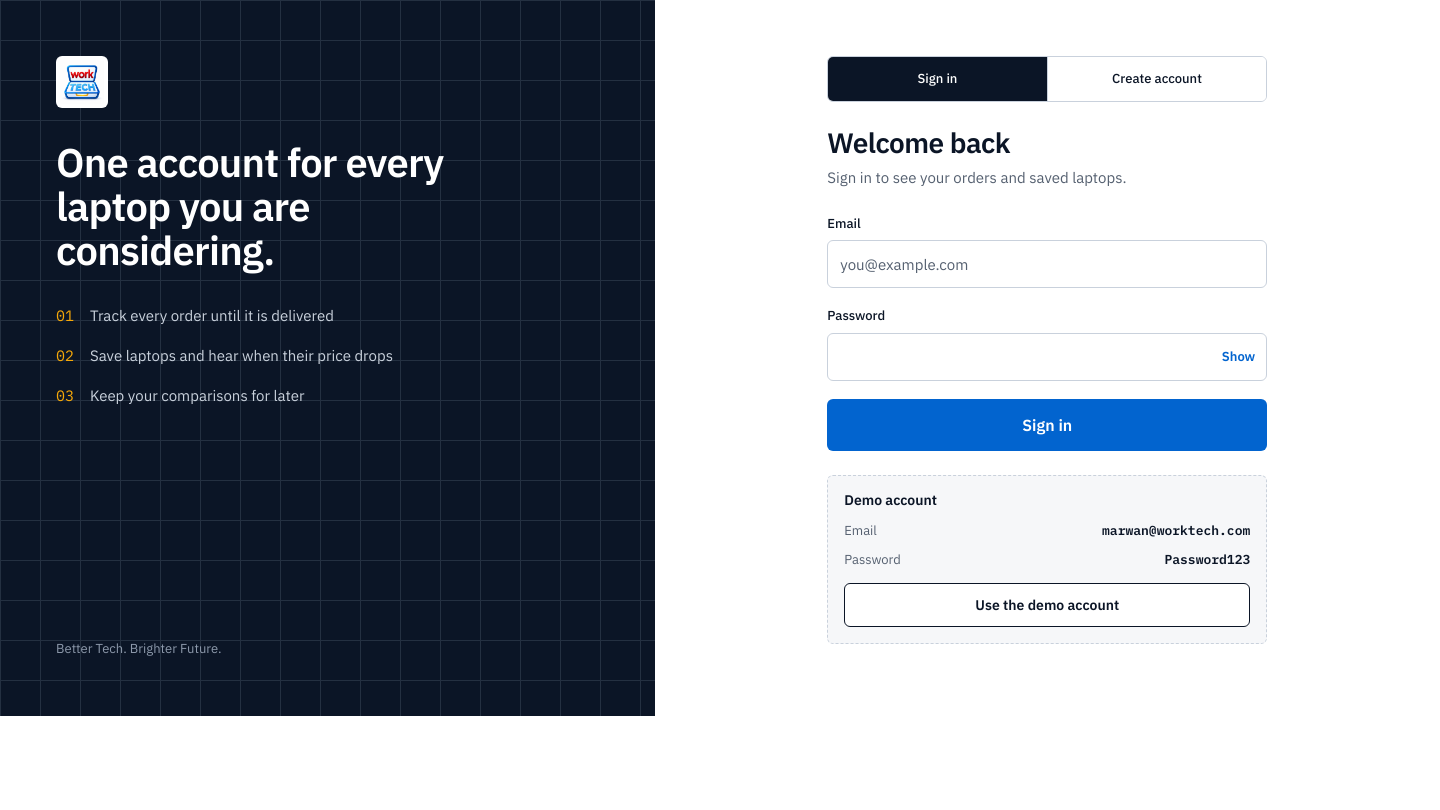
Test case: create account › opens from its tab
Click the radio button labelled "Create account": {"x": 1157, "y": 79} [1047,57,1266,101]
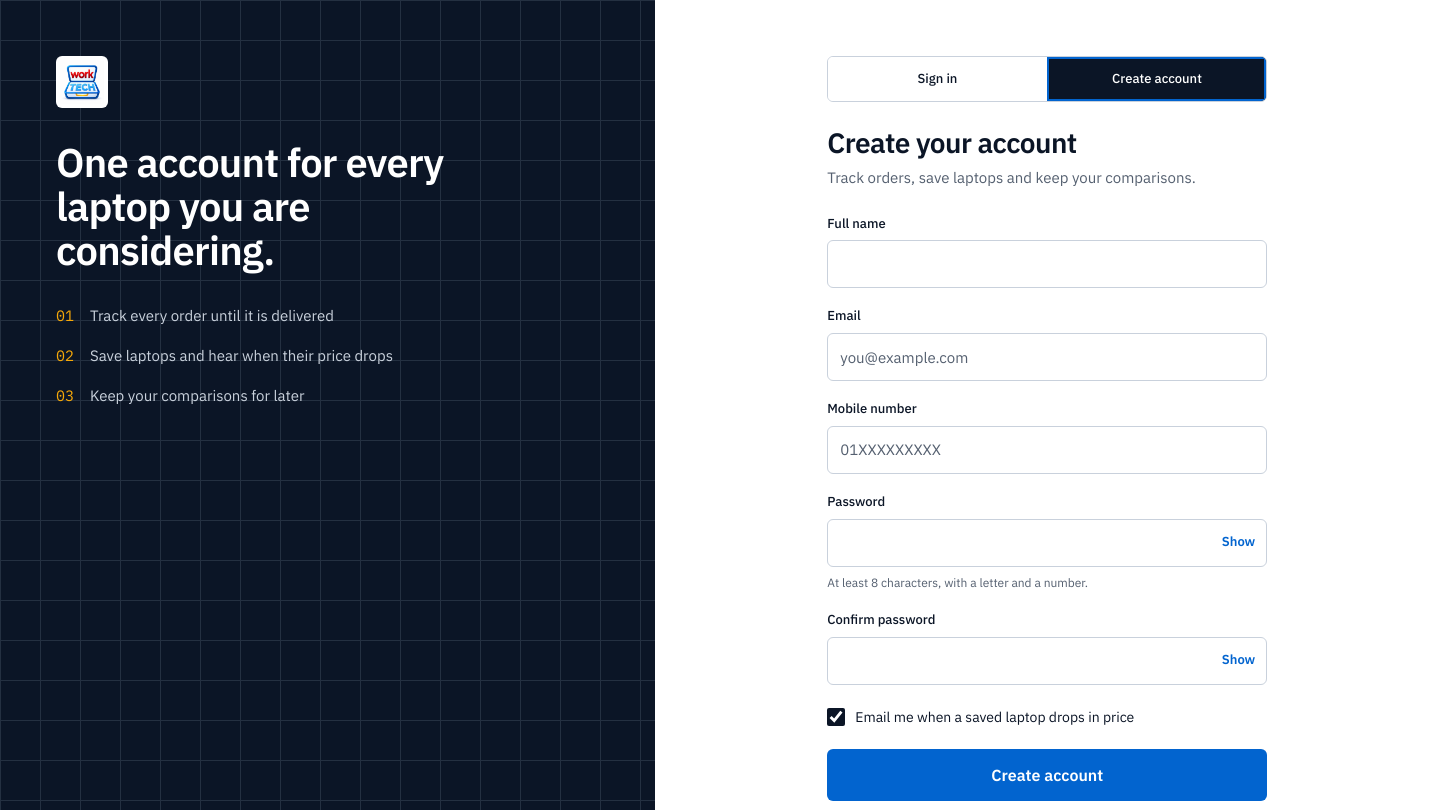
Check: the heading "Create your account" is shown, box [827,124,1077,161]
